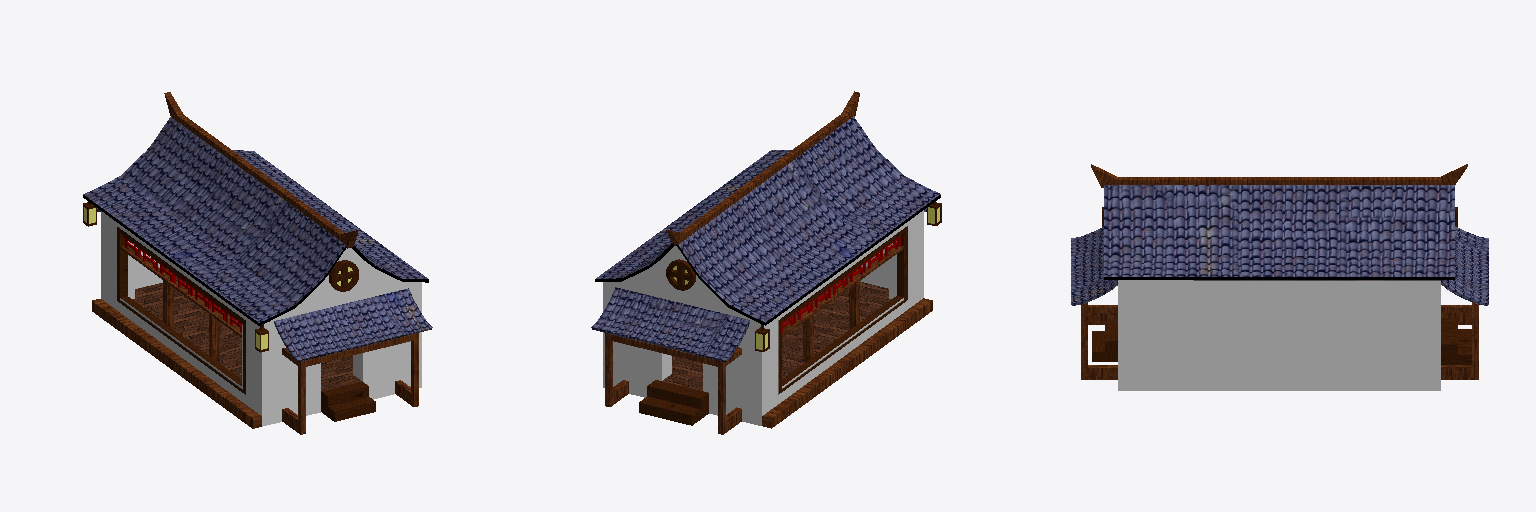
3 renders of one model, left to right at view 1: azimuth 30°, elevation 25°; view 2: azimuth 150°, elevation 25°; view 3: azimuth 270°, elevation 25°, orthographic.
Parts seen in each view (by area): view 1: Cylinder.001_Cylinder.000; view 2: Cylinder.001_Cylinder.000; view 3: Cylinder.001_Cylinder.000.
Boxes of the visible parts, x1=… form: Cylinder.001_Cylinder.000: x1=83, y1=92, x2=432, y2=434; Cylinder.001_Cylinder.000: x1=591, y1=91, x2=941, y2=434; Cylinder.001_Cylinder.000: x1=1071, y1=164, x2=1488, y2=390.
Size of the model in its own units: 2.74 by 2.87 by 5.82.
2 materials, 1 textured.